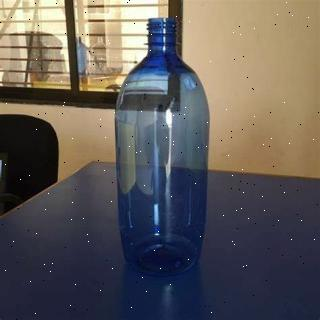Plastic-bottle: (112, 16, 214, 284)
